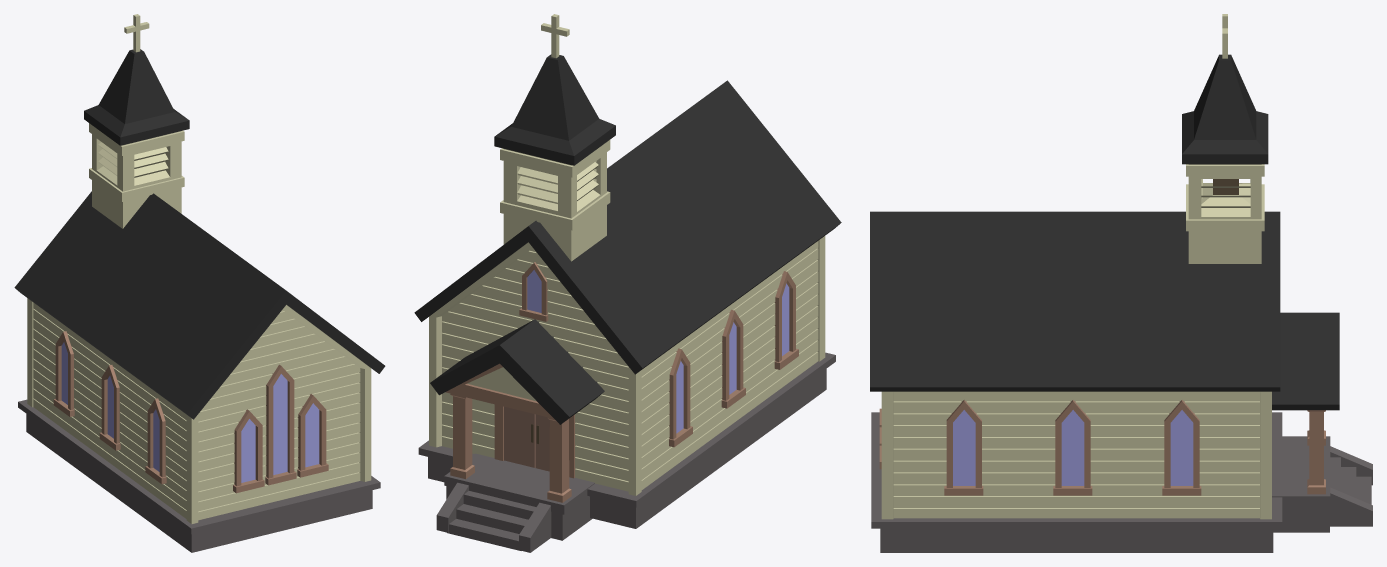
Rendered from Carpenter Gothic Church by jrich01 - Vq4Gik1t7c.glb.
The picture shows the model from 3 angles, left to right: view 1: azimuth 30°, elevation 25°; view 2: azimuth 150°, elevation 25°; view 3: azimuth 270°, elevation 25°; orthographic projection. The views are drawn at different scales.
Visible parts, largest first — view 1: Church slatted base; view 2: Church slatted base; view 3: Church slatted base.
Boxes of the visible parts, box(x1,y1,x2,y2) form: Church slatted base: box(14, 14, 385, 552); Church slatted base: box(414, 14, 841, 552); Church slatted base: box(870, 14, 1372, 552).
Bounding box in the file's own units: 8.36 × 16.61 × 15.48.
